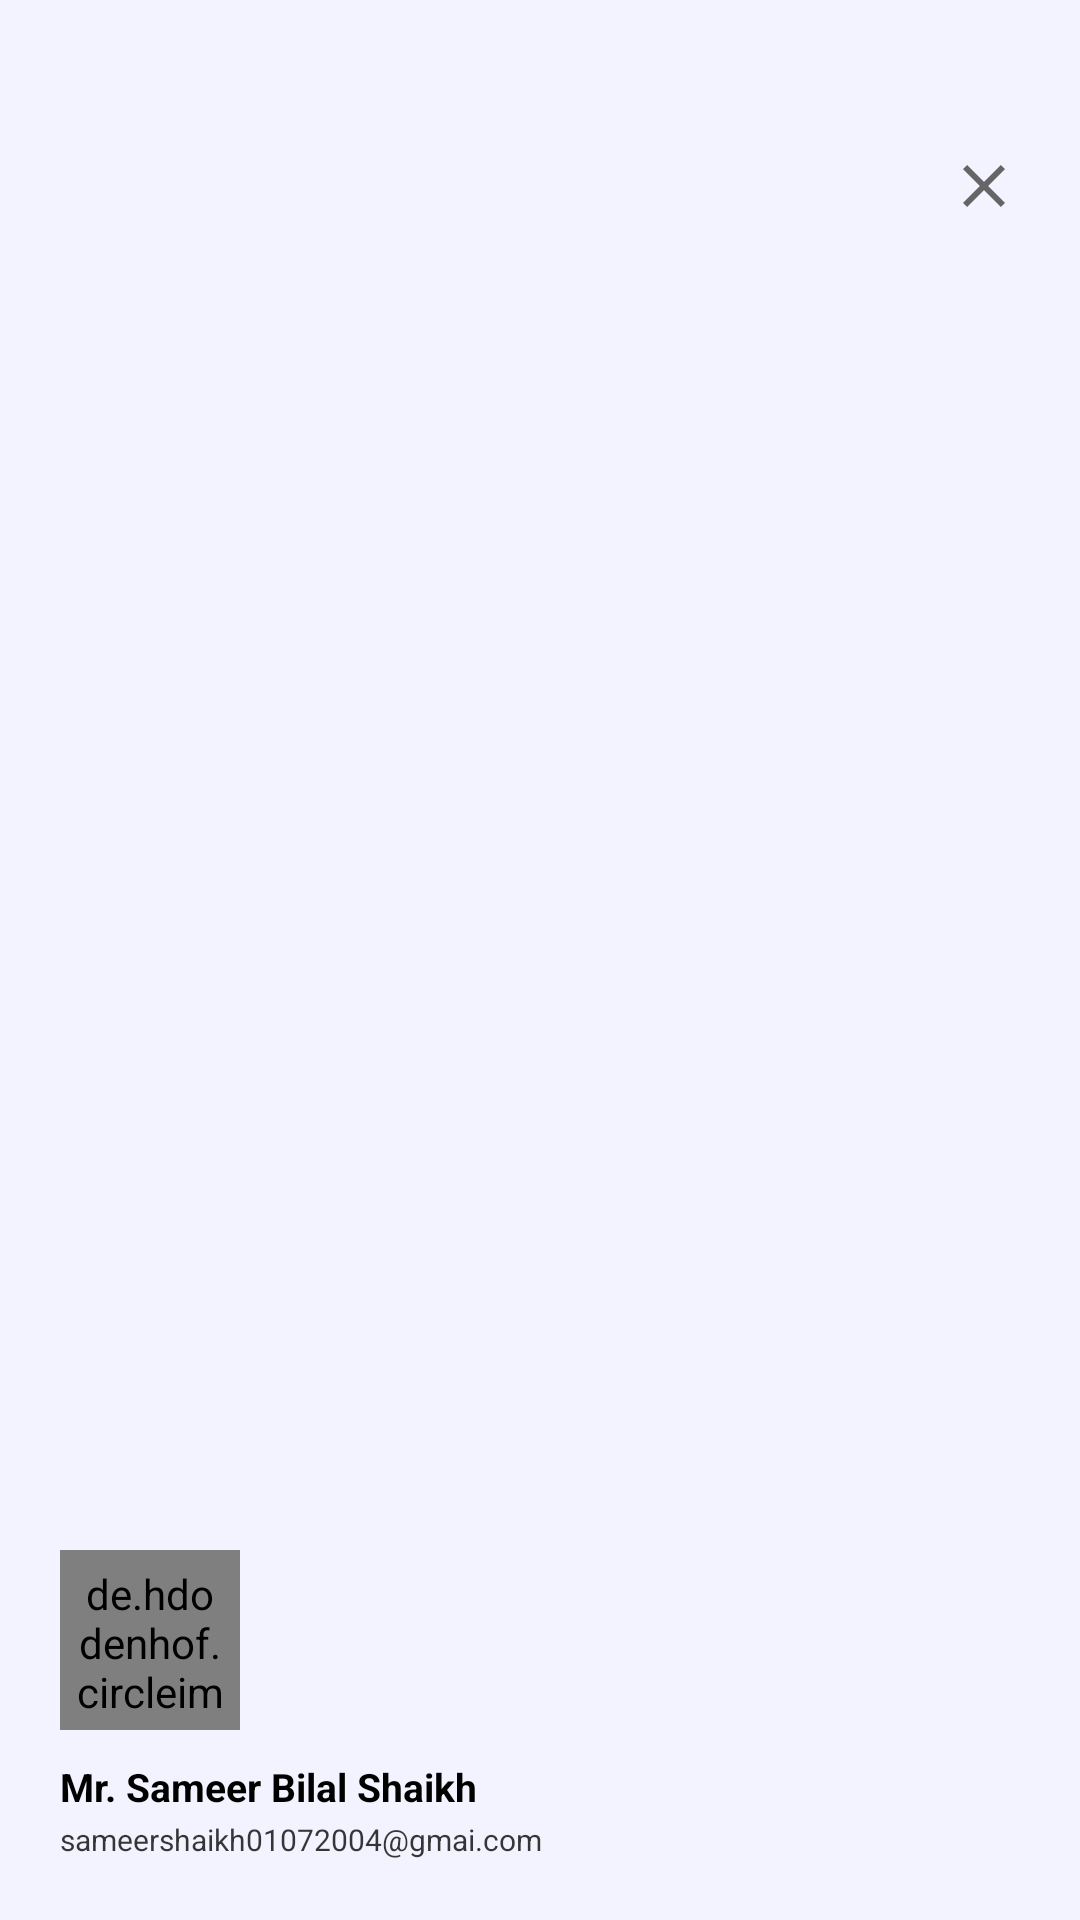

Screen size 1080px x 1920px. Icon name, then its center in pixels as point (x, y):
close: point (984, 186)
